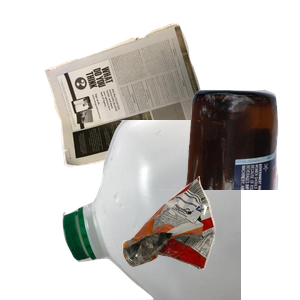glass: (87, 87, 300, 267)
paper: (42, 21, 249, 181)
plastic: (60, 120, 300, 300)
trash: (120, 174, 300, 300)
